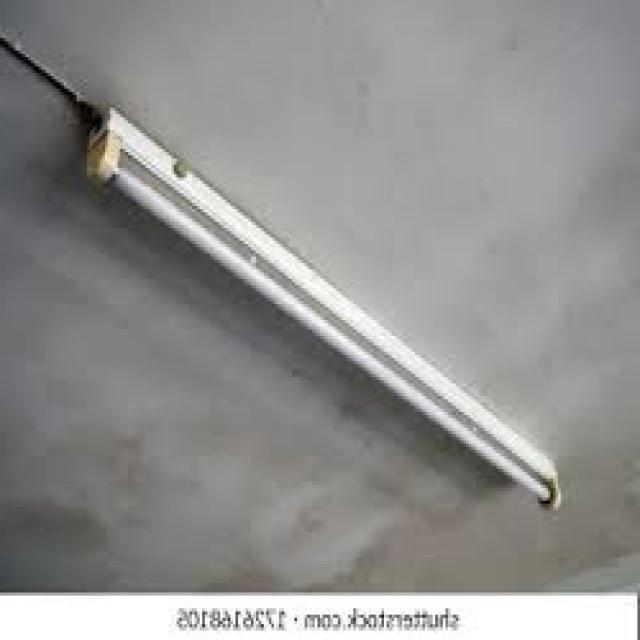light: (84, 104, 562, 511)
